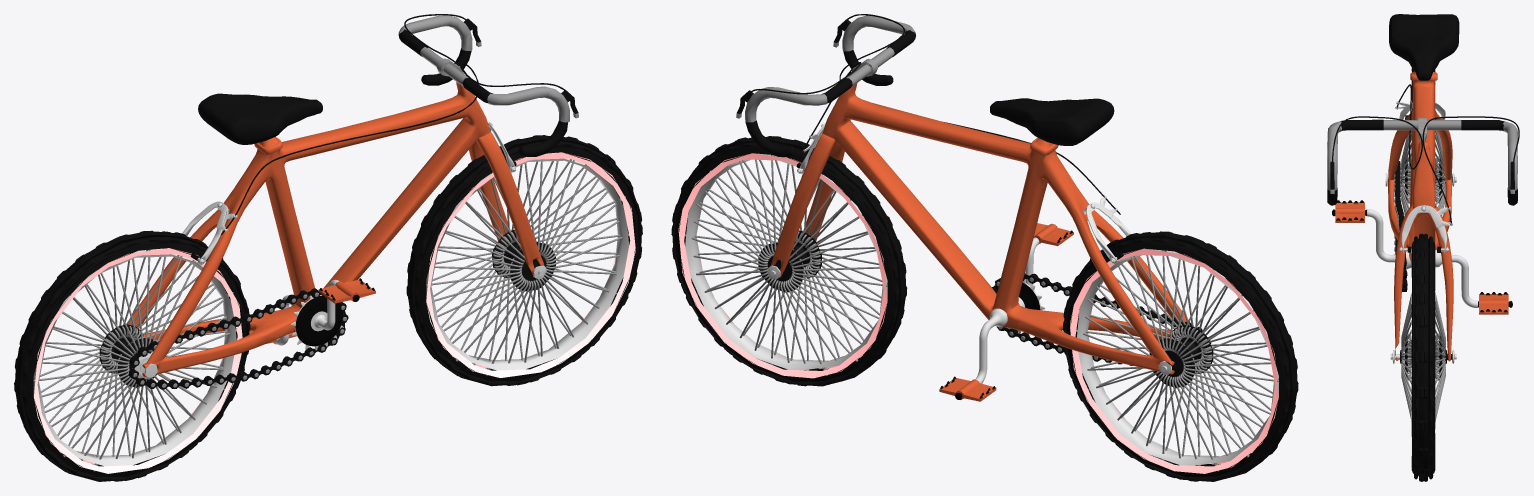
The model's file is bike.glb.
The picture shows the model from 3 angles, left to right: view 1: azimuth 30°, elevation 25°; view 2: azimuth 150°, elevation 25°; view 3: azimuth 270°, elevation 25°; orthographic projection. The views are drawn at different scales.
Parts seen in each view (by area): view 1: Bike, F_Pneu, B_Pneu, F_Raios, B_Raios, Cylinder.003, Cube, Cylinder.002, Cylinder, F_Eixo, B_Eixo, NurbsCurve (+2 smaller); view 2: Bike, B_Pneu, F_Pneu, F_Raios, B_Raios, Cylinder.003, Cube, Cylinder, B_Eixo, F_Eixo, Cylinder.002, Pedal_E (+1 smaller); view 3: Bike, F_Pneu, Cylinder.003, Cube, F_Raios, Cylinder, B_Raios, BreakF, Cylinder.002, Pedal_E, Pedal_E.001, NurbsCurve (+4 smaller).
Part boxes in pixels (<box>): Bike: <box>126,73,544,376</box>; F_Pneu: <box>406,135,642,386</box>; B_Pneu: <box>14,230,250,481</box>; F_Raios: <box>426,152,629,375</box>; B_Raios: <box>33,248,236,471</box>; Cylinder.003: <box>398,15,578,156</box>; Cube: <box>198,93,322,144</box>; Cylinder.002: <box>128,288,348,389</box>; Cylinder: <box>275,279,359,350</box>; F_Eixo: <box>492,230,555,291</box>; B_Eixo: <box>99,324,157,387</box>; NurbsCurve: <box>221,63,565,234</box>; Bike: <box>770,74,1190,374</box>; B_Pneu: <box>1063,231,1298,481</box>; F_Pneu: <box>671,136,907,386</box>; F_Raios: <box>685,153,887,375</box>; B_Raios: <box>1076,249,1278,471</box>; Cylinder.003: <box>736,15,915,157</box>; Cube: <box>990,98,1114,145</box>; Cylinder: <box>955,226,1056,399</box>; B_Eixo: <box>1149,325,1213,387</box>; F_Eixo: <box>758,230,821,292</box>; Cylinder.002: <box>992,273,1211,365</box>; Pedal_E: <box>939,376,996,401</box>; Bike: <box>1388,71,1453,361</box>; F_Pneu: <box>1411,233,1435,481</box>; Cylinder.003: <box>1327,117,1517,205</box>; Cube: <box>1389,14,1459,80</box>; F_Raios: <box>1401,292,1445,421</box>; Cylinder: <box>1332,209,1512,307</box>; B_Raios: <box>1401,130,1445,215</box>; BreakF: <box>1399,205,1452,253</box>; Cylinder.002: <box>1394,161,1407,291</box>; Pedal_E: <box>1479,292,1508,314</box>; Pedal_E.001: <box>1335,200,1364,222</box>; NurbsCurve: <box>1332,84,1422,169</box>.
Bounding box in the file's own units: 4.69 × 2.5 × 1.36.
